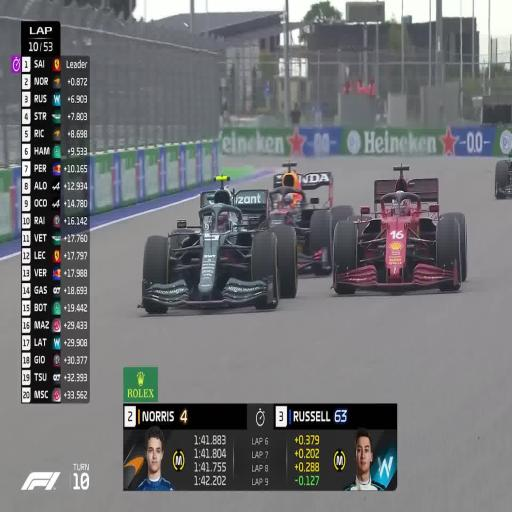f1_car: (139, 186, 281, 312), (333, 165, 467, 293), (269, 162, 353, 274), (495, 154, 512, 198), (361, 206, 370, 218), (281, 258, 294, 265), (216, 176, 228, 181), (294, 247, 294, 252), (294, 236, 294, 239)
